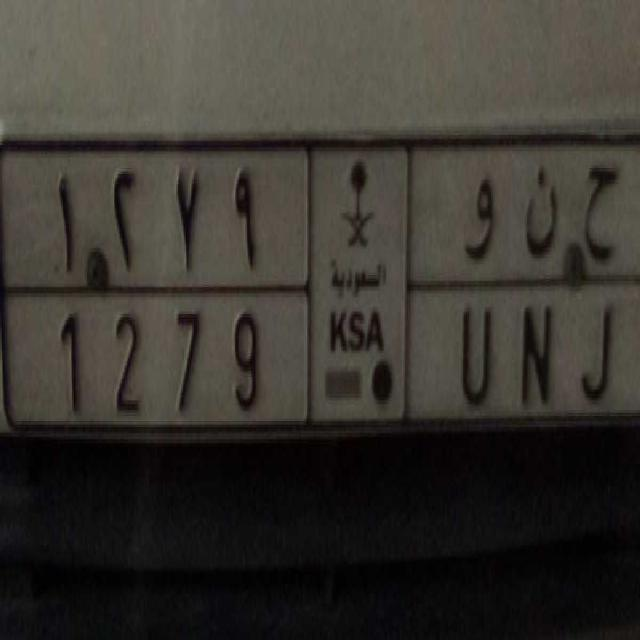license_plate: (27, 284, 631, 434)
